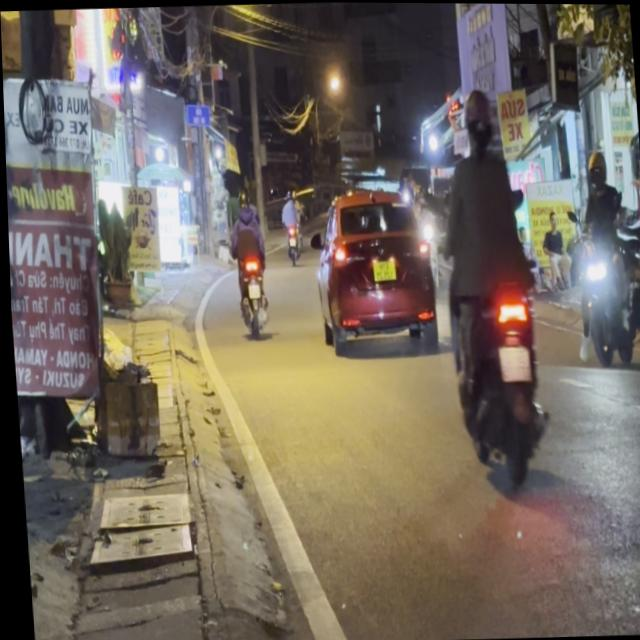helmet: (461, 86, 499, 151), (585, 147, 607, 190)
licenseplate: (428, 83, 553, 491), (556, 146, 640, 378)
nohelmet: (497, 344, 529, 379)
